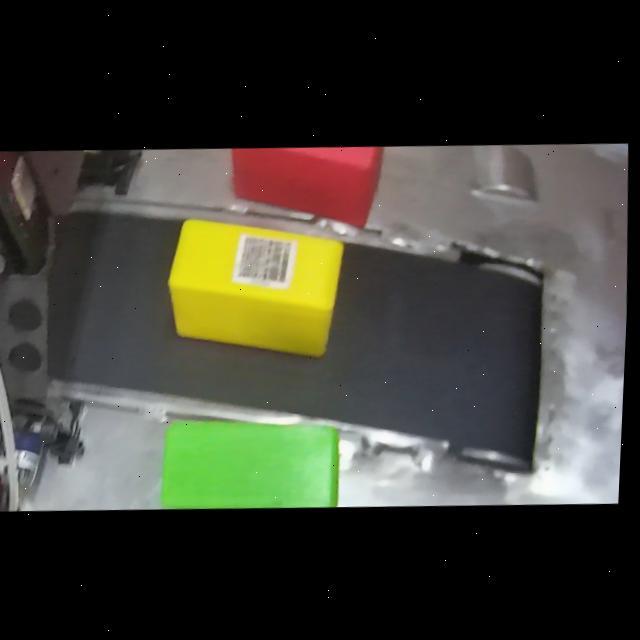greenBox: (159, 409, 352, 511)
redBox: (224, 141, 400, 238)
yellowBox: (162, 203, 357, 366)
